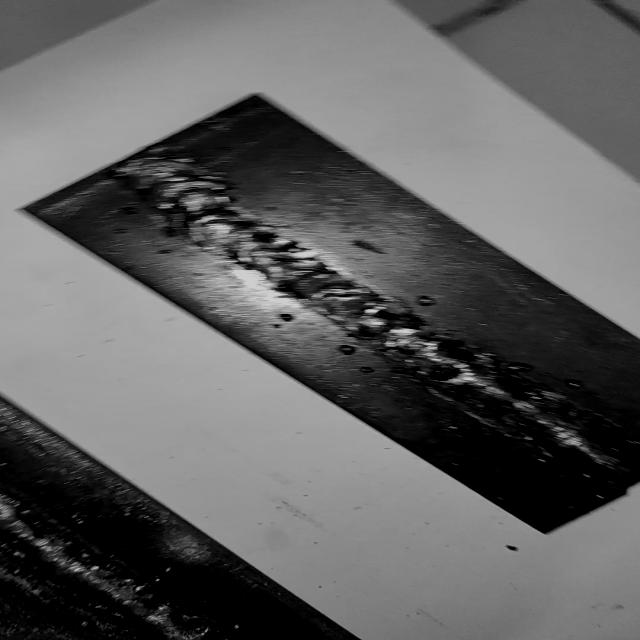Bad Weld: (116, 152, 634, 478)
Defect: (340, 338, 461, 385)
Good Weld: (0, 494, 229, 640)
